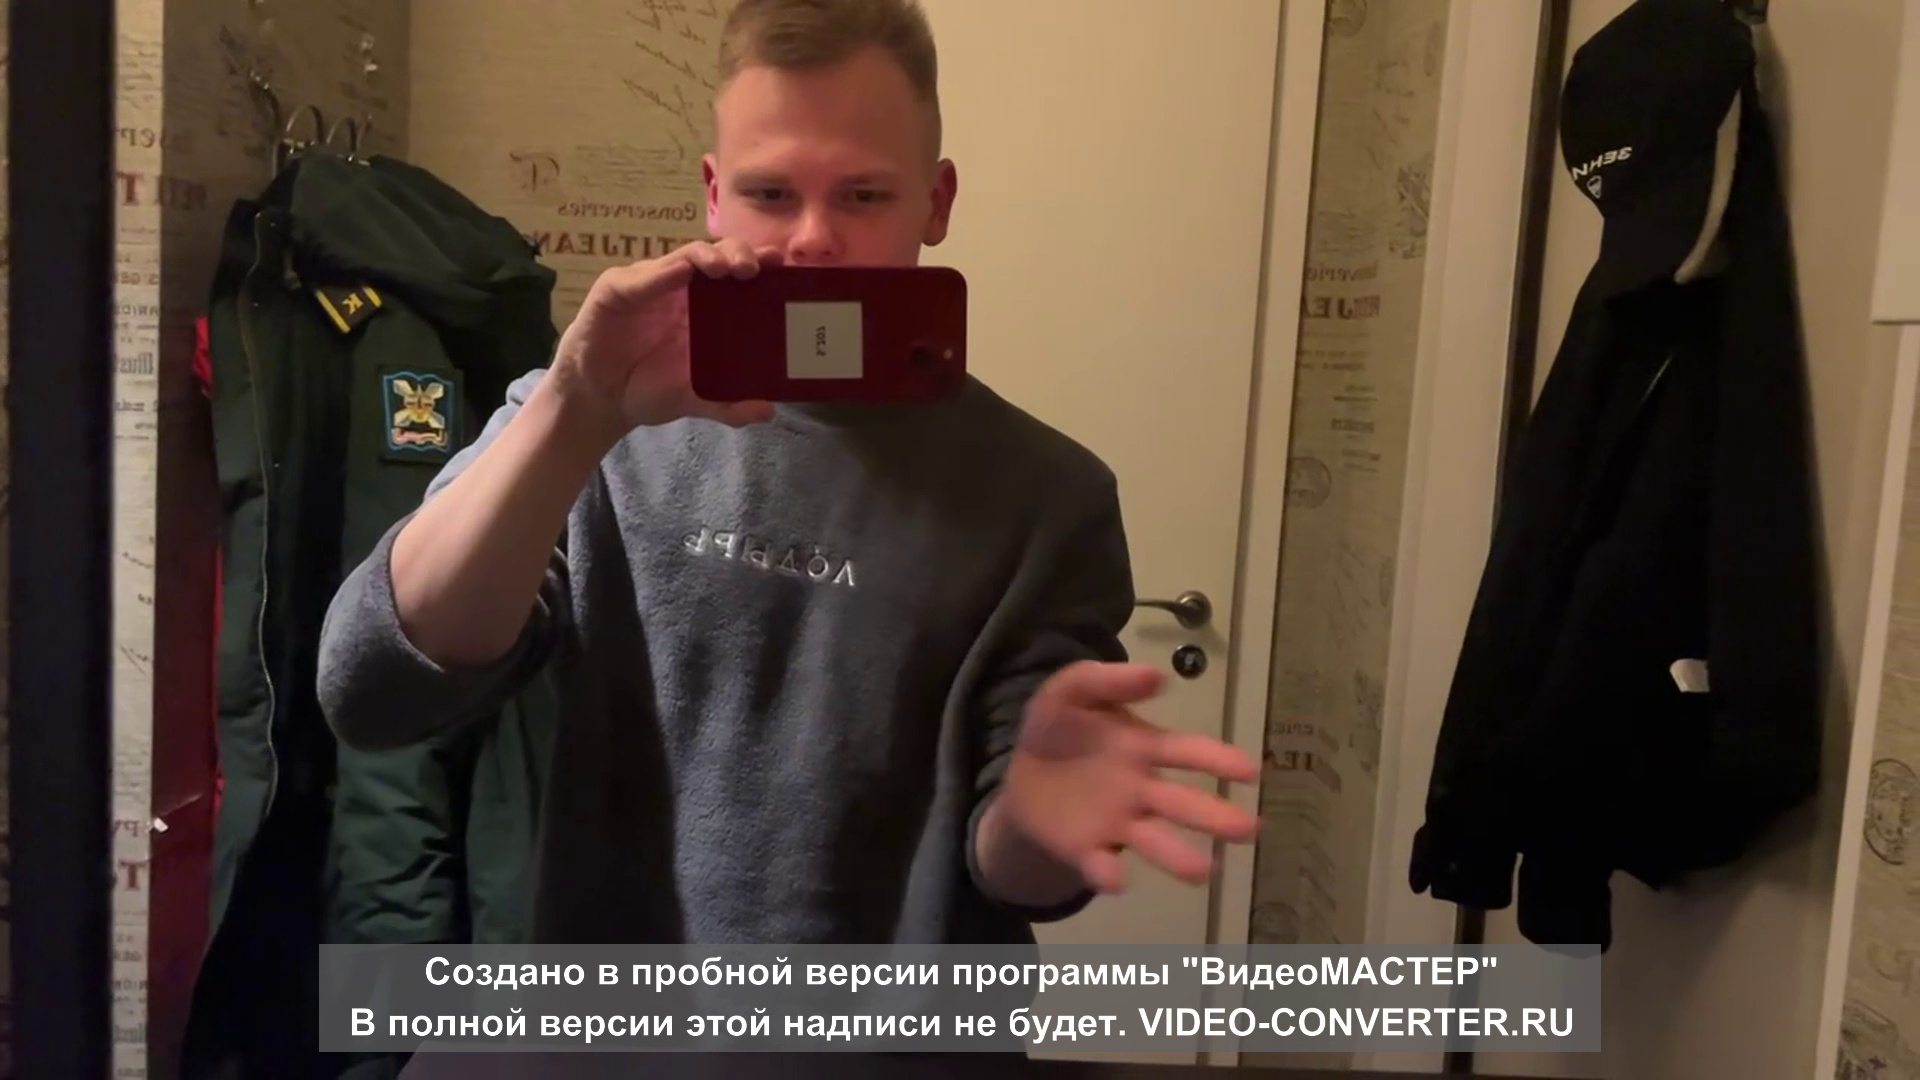Ладонь: (1011, 659, 1263, 899)
